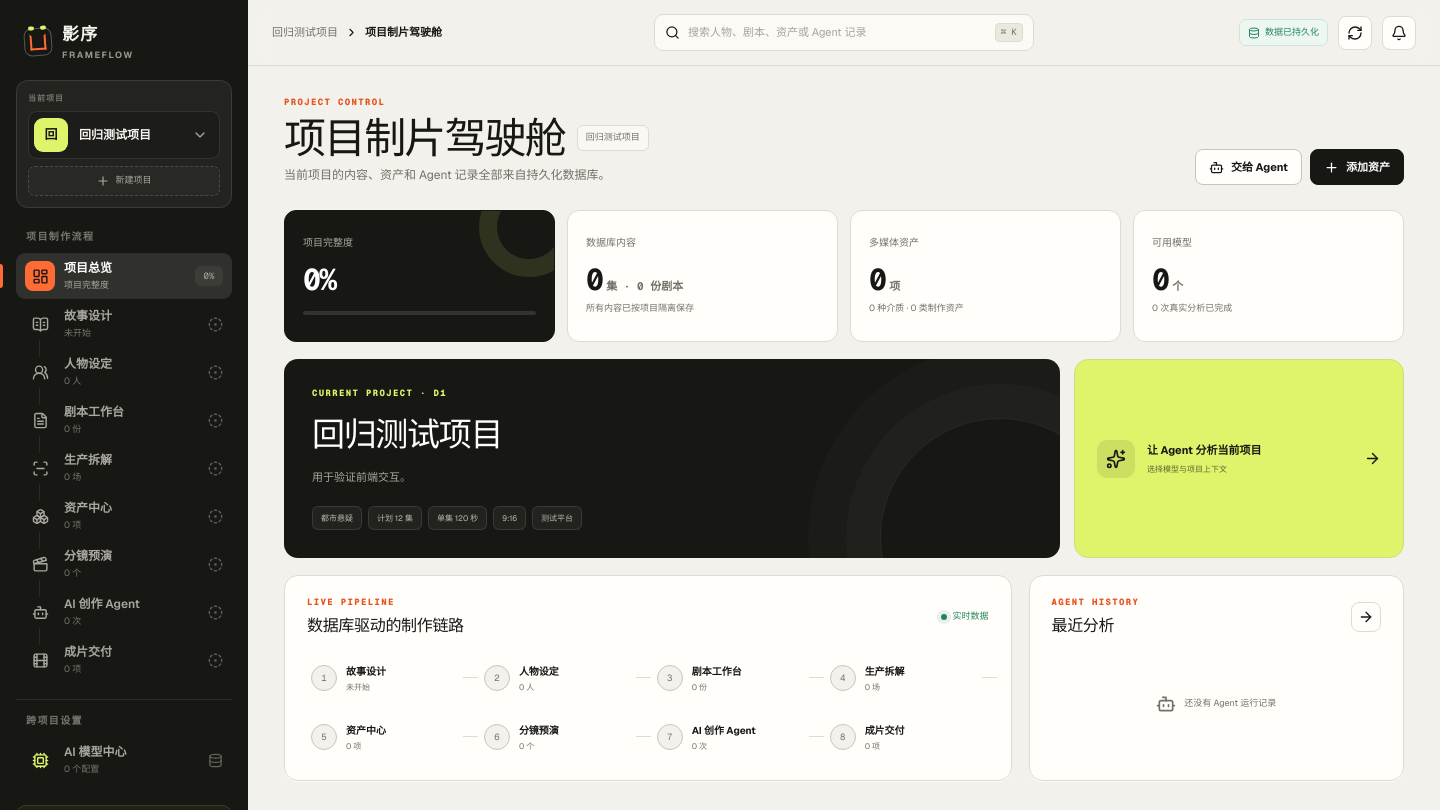
Test: 关键按钮点击回归 › Home 加载数据后点击“新建项目”显示创建表单
Expected: the heading "回归测试项目" is shown, [312,412,502,456]
Step 1. Click the button "新建项目" → (124,181), box [28,166,220,196]
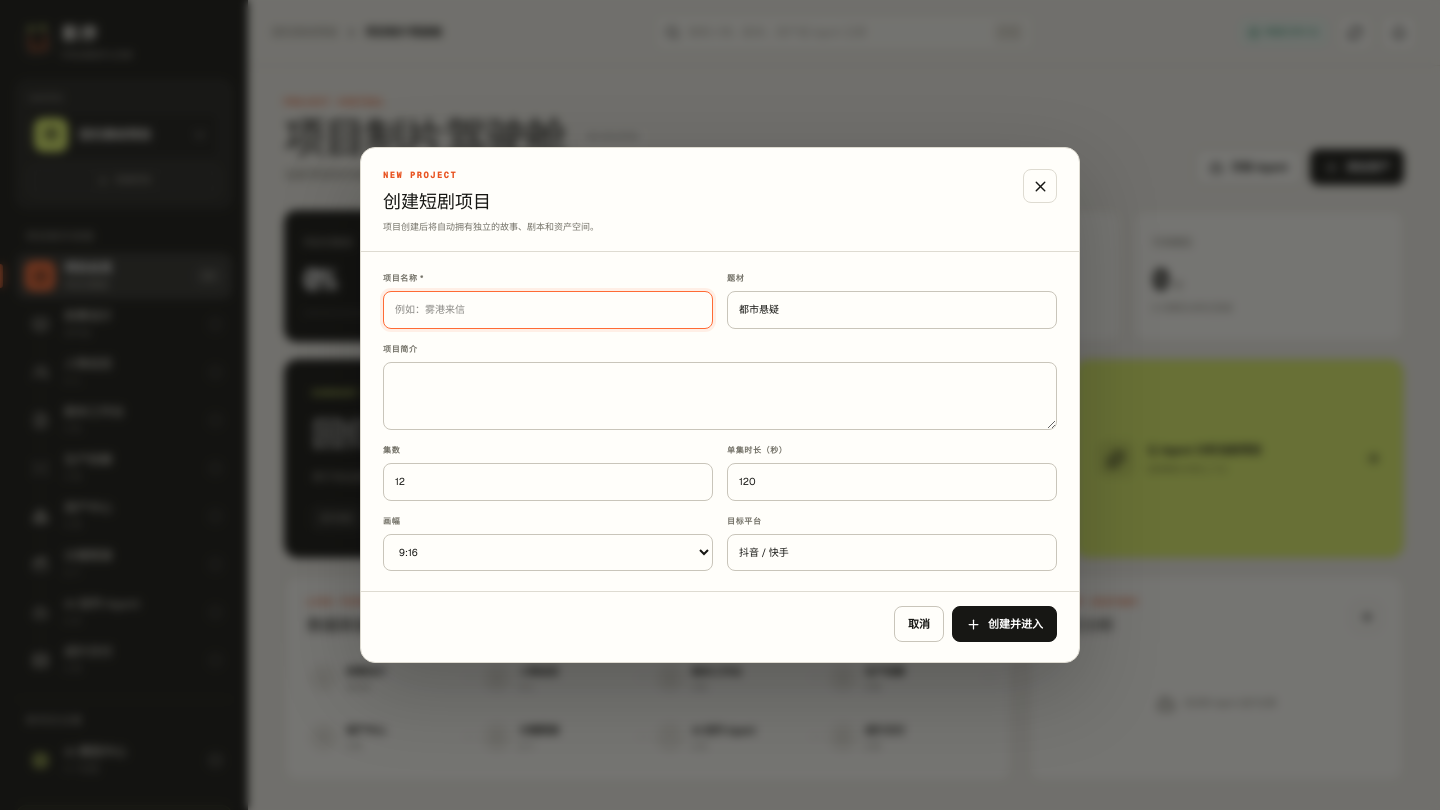
Expected: the heading "创建短剧项目" is shown, [383,190,491,212]
Expected: the field labelled "项目名称 *" is shown, [383,291,713,328]
